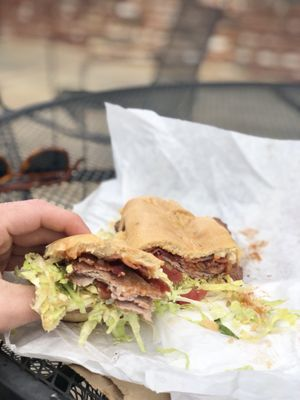soup: (5, 194, 271, 350)
